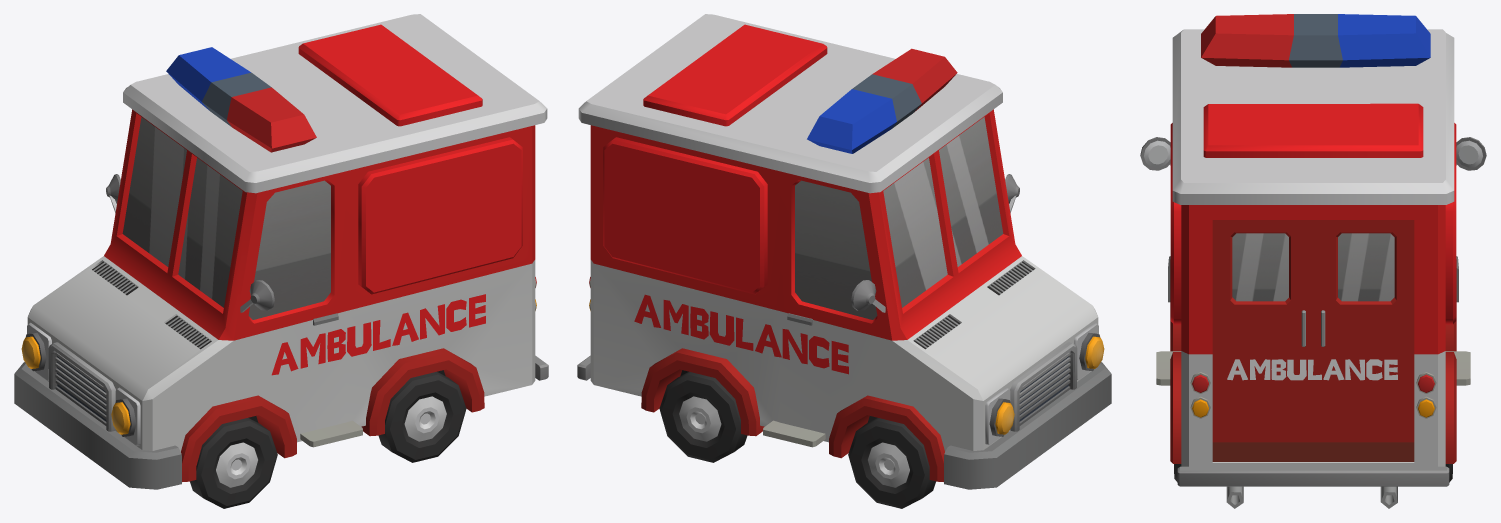
Rendered from Ambulance_1_B.gltf.
The picture shows the model from 3 angles, left to right: view 1: azimuth 30°, elevation 25°; view 2: azimuth 150°, elevation 25°; view 3: azimuth 270°, elevation 25°; orthographic projection. The views are drawn at different scales.
Parts seen in each view (by area): view 1: Ambulance_1_B, RL, FL; view 2: Ambulance_1_B, RR, FR; view 3: Ambulance_1_B.
Boxes of the visible parts, bbox=[...] form: Ambulance_1_B: bbox=[14, 14, 548, 489]; RL: bbox=[378, 371, 466, 462]; FL: bbox=[190, 418, 277, 508]; Ambulance_1_B: bbox=[577, 14, 1111, 489]; RR: bbox=[659, 371, 747, 462]; FR: bbox=[848, 418, 935, 508]; Ambulance_1_B: bbox=[1140, 14, 1486, 508].
Bounding box in the file's own units: 2.75 × 2.22 × 1.8.
Materials: 4 (4 with a texture image).
